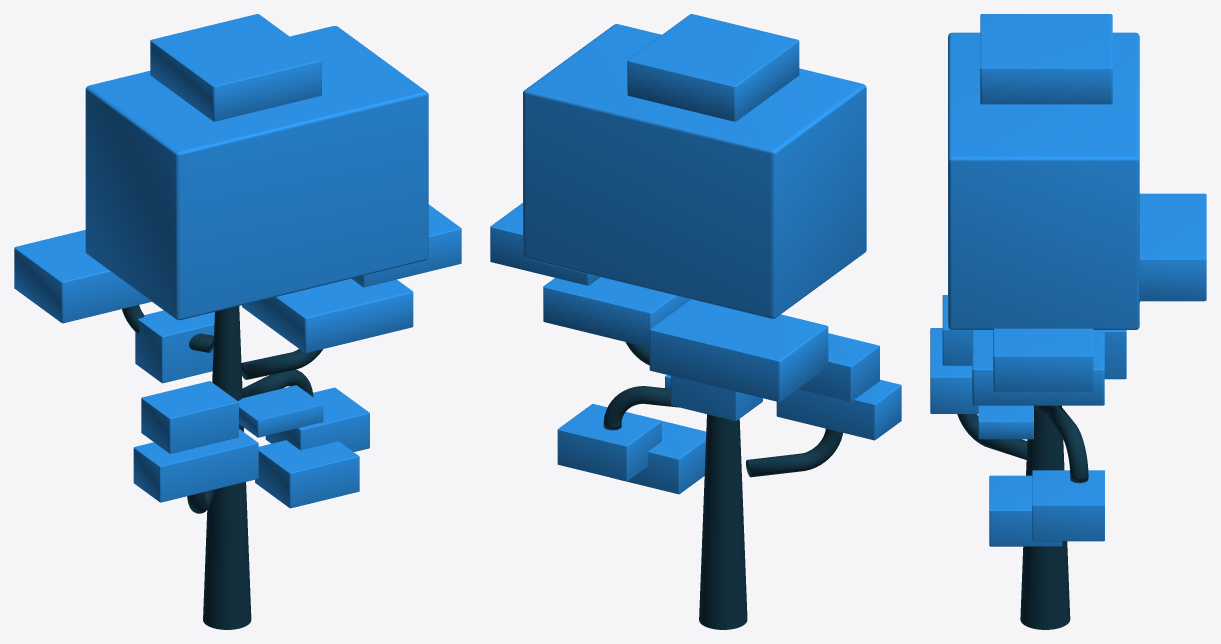
Rendered from square_tree_2.glb.
3 renders of one model, left to right at view 1: azimuth 30°, elevation 25°; view 2: azimuth 150°, elevation 25°; view 3: azimuth 270°, elevation 25°, orthographic. The views are drawn at different scales.
Parts seen in each view (by area): view 1: Cube_Tree_2.001; view 2: Cube_Tree_2.001; view 3: Cube_Tree_2.001.
Boxes of the visible parts, bbox=[...] form: Cube_Tree_2.001: bbox=[14, 14, 461, 629]; Cube_Tree_2.001: bbox=[490, 14, 901, 629]; Cube_Tree_2.001: bbox=[930, 14, 1206, 629].
Bounding box in the file's own units: 12.15 × 19.07 × 8.18.
